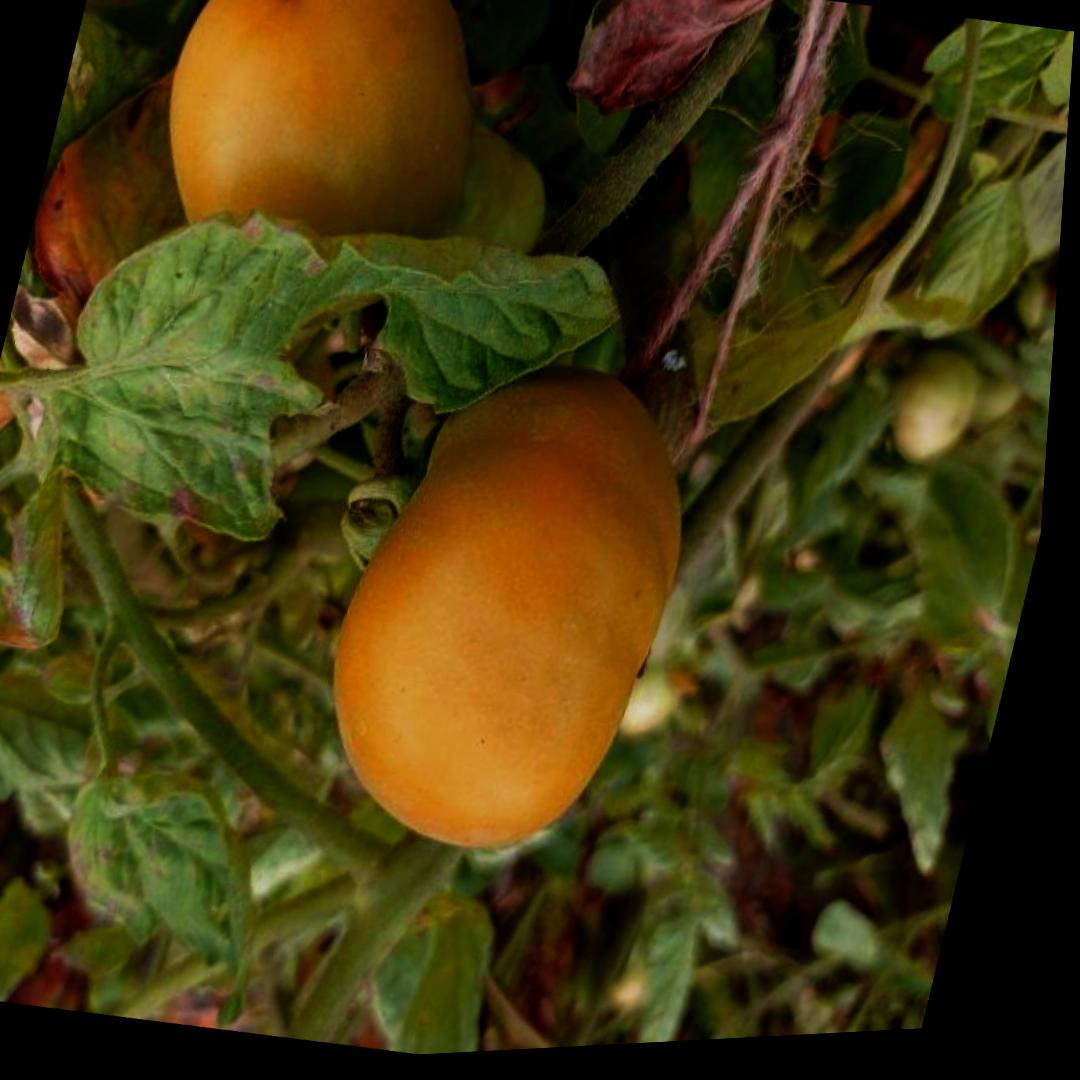setengah_matang: (281, 322, 730, 887), (109, 0, 520, 365)
